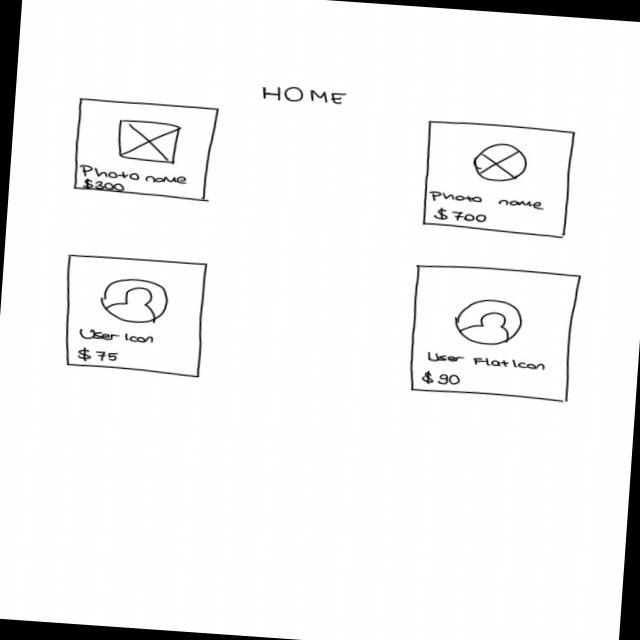container: (404, 260, 584, 404), (416, 118, 580, 240), (58, 252, 211, 380), (68, 95, 221, 203)
image: (451, 295, 525, 347), (100, 276, 170, 324), (114, 116, 181, 164), (470, 140, 530, 184)
label: (428, 188, 547, 213), (424, 350, 550, 371), (78, 163, 190, 186), (258, 81, 349, 108), (77, 328, 156, 346), (433, 206, 488, 225), (76, 346, 120, 364), (422, 369, 462, 387), (79, 178, 126, 192)
